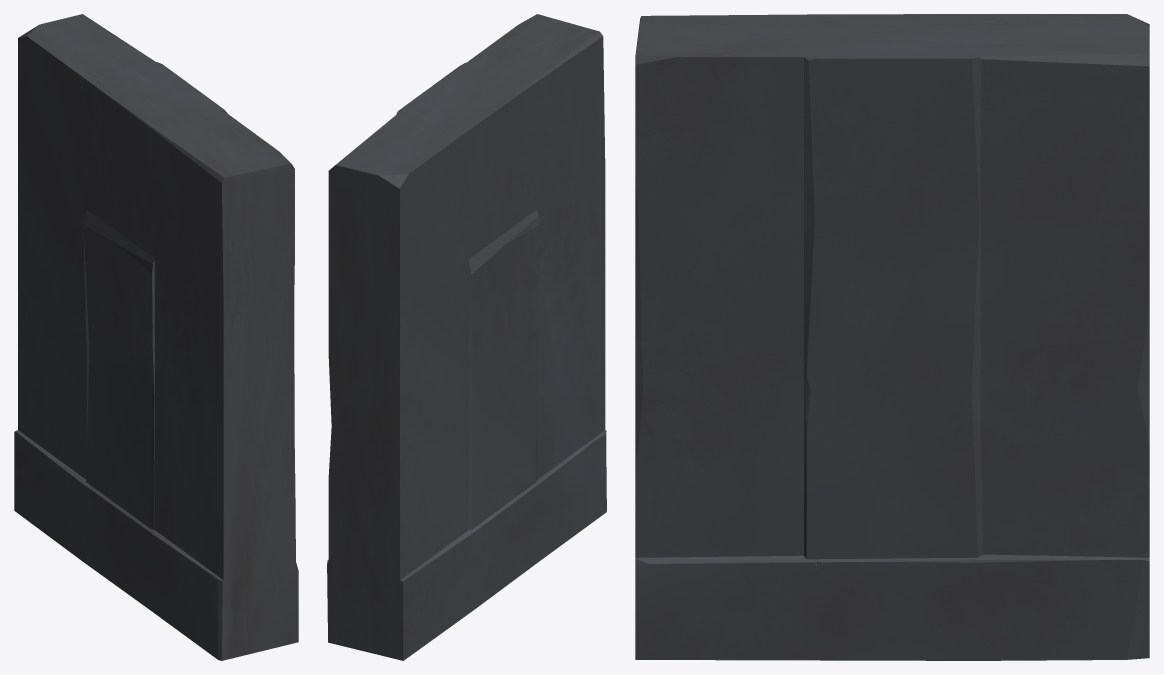
File: ruins_wall_2.fbx
3 views of the same model, side by side, from view 1: azimuth 30°, elevation 25°; view 2: azimuth 150°, elevation 25°; view 3: azimuth 270°, elevation 25° (orthographic). The views are drawn at different scales.
Visible parts, largest first — view 1: wall 2; view 2: wall 2; view 3: wall 2.
Part boxes in pixels (x1=…): wall 2: x1=14, y1=14, x2=298, y2=660; wall 2: x1=327, y1=14, x2=606, y2=660; wall 2: x1=635, y1=14, x2=1149, y2=660.
Bounding box in the file's own units: 36.61 × 206 × 160.
